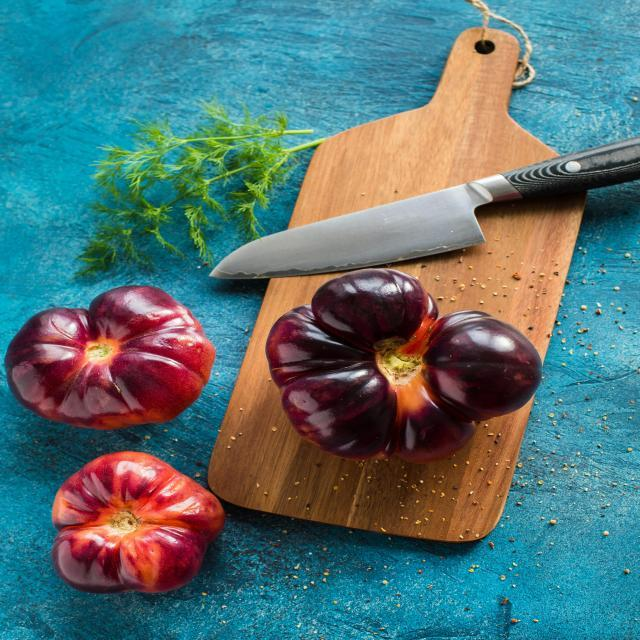Knife: (211, 138, 640, 279)
